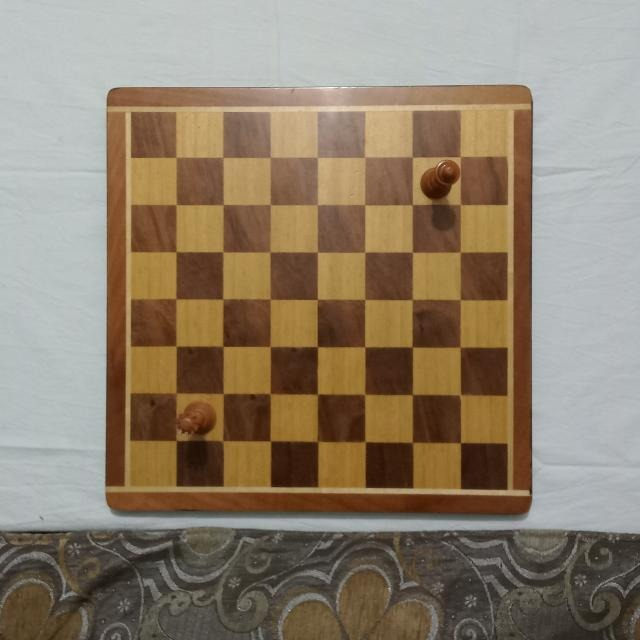white-king: (421, 157, 461, 200)
white-queen: (177, 398, 217, 437)
